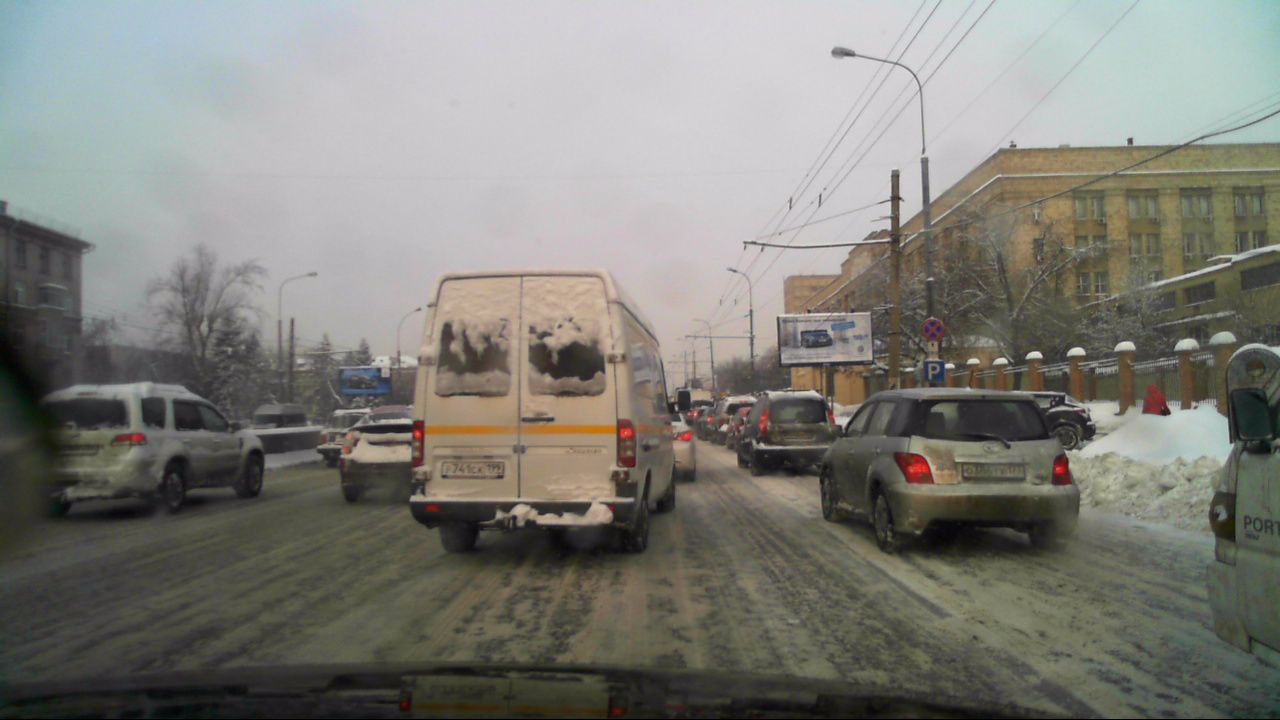No Parking: (920, 316, 947, 339)
